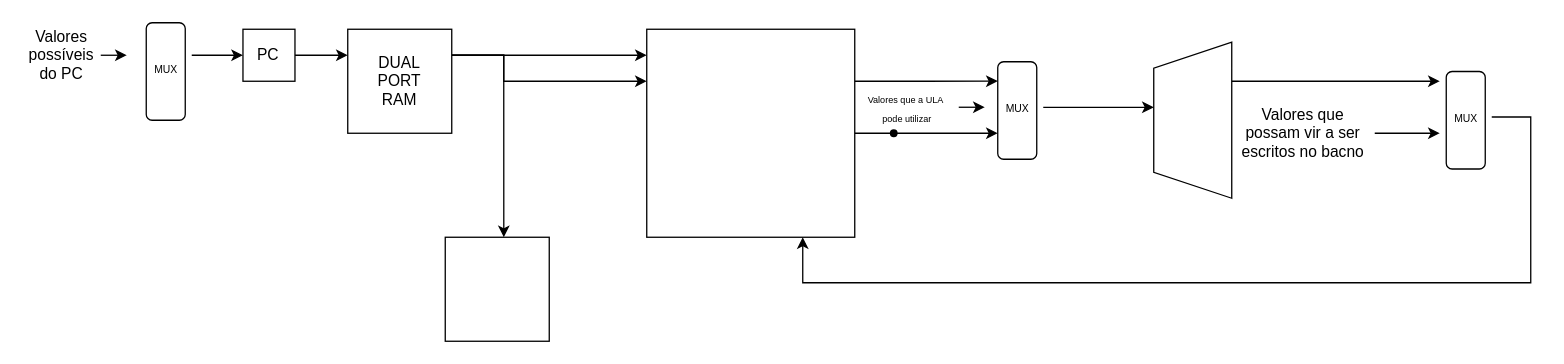
The diagram is 1564 pixels wide and 364 high, and some of its shapes have lost their labels. The box of each missing label's shape, as (x1, y1, x2, y2) in pixels:
BANCO DE REGISTRADORES: (645, 28, 855, 237)
MEMÓRIA DE CONTROLE: (444, 236, 549, 341)
ULA: (1152, 41, 1232, 198)
